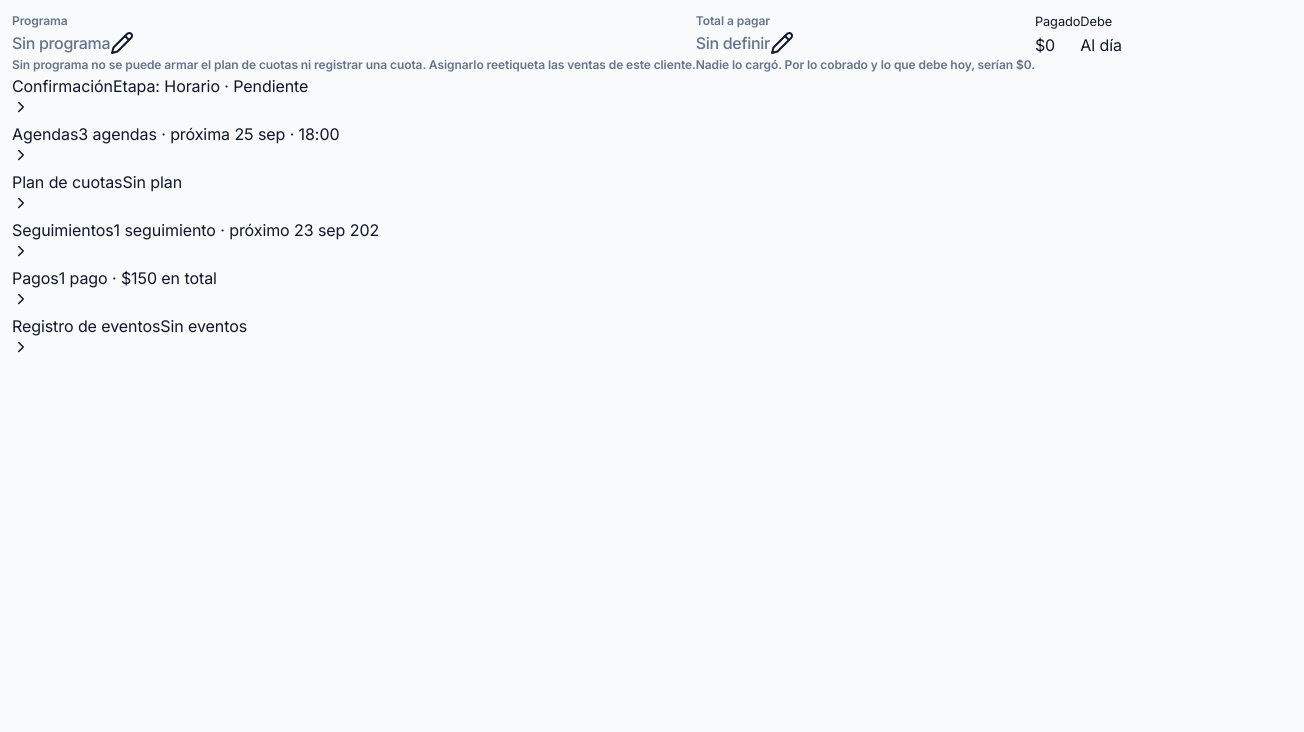
Test: a quién se le hizo una transferencia, en la fila › si el backend rechaza la marca, la fila dice por qué
The width and height of the screenshot is (1304, 732).
Click the button "Pagos1 pago · $150 en total" at (114, 287), box left=12, top=266, right=217, bottom=308
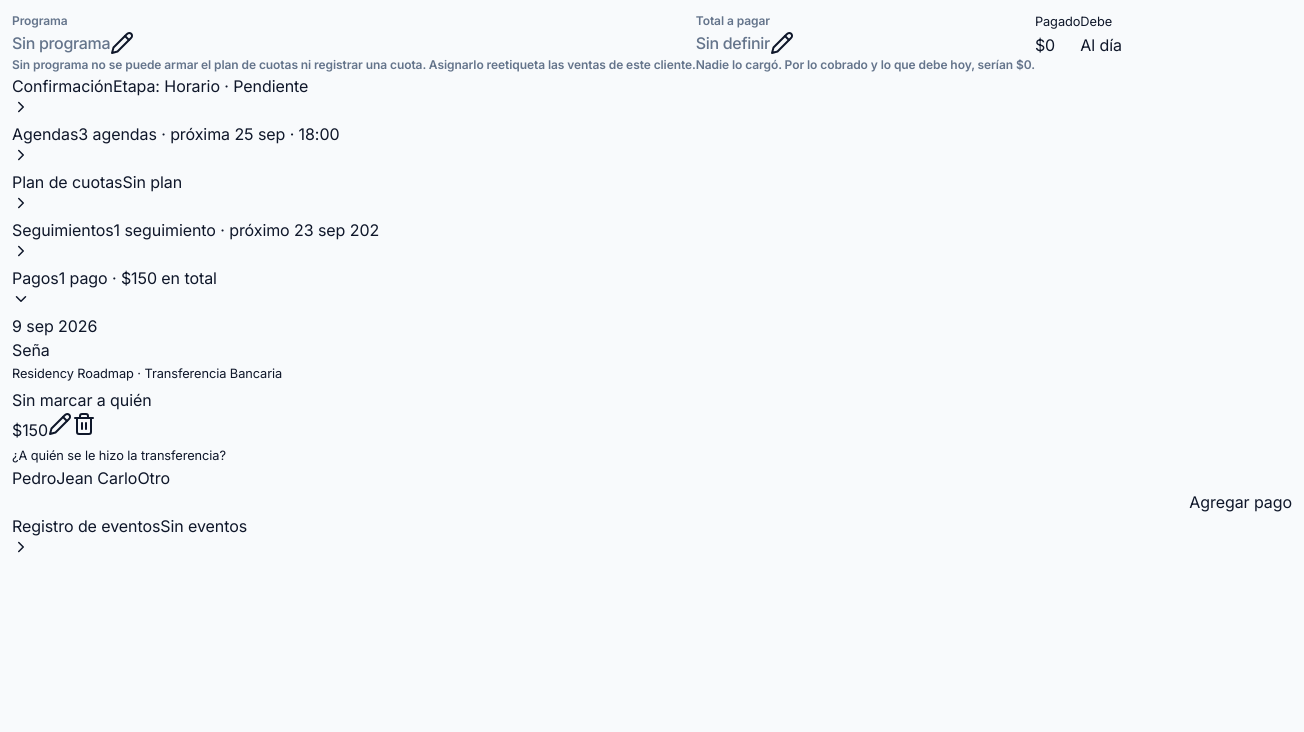
Click the button "Pedro" at (34, 478), box left=12, top=466, right=56, bottom=490
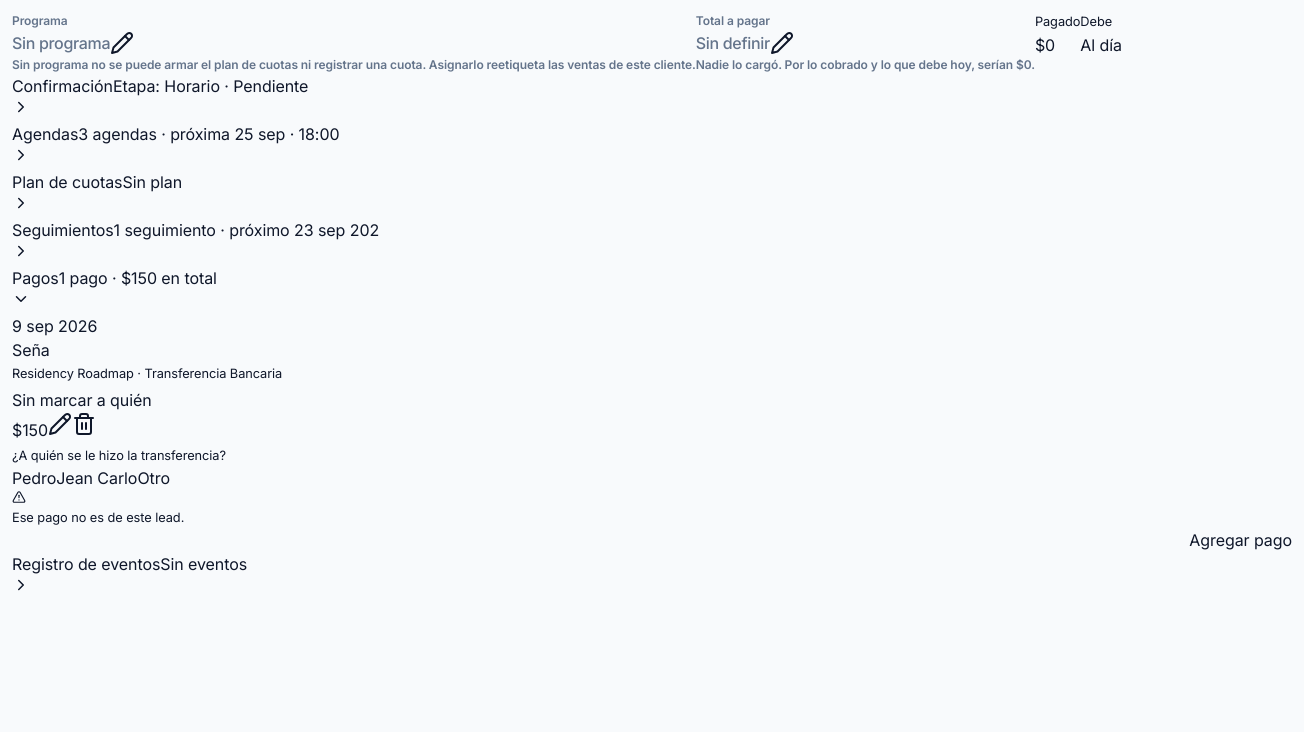
Check: the message reads "Ese pago no es de este lead.", box left=12, top=510, right=184, bottom=525
